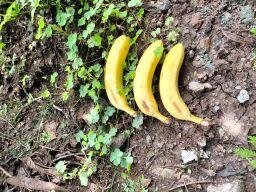banana: (158, 41, 211, 127), (132, 37, 172, 125), (102, 34, 139, 118)
